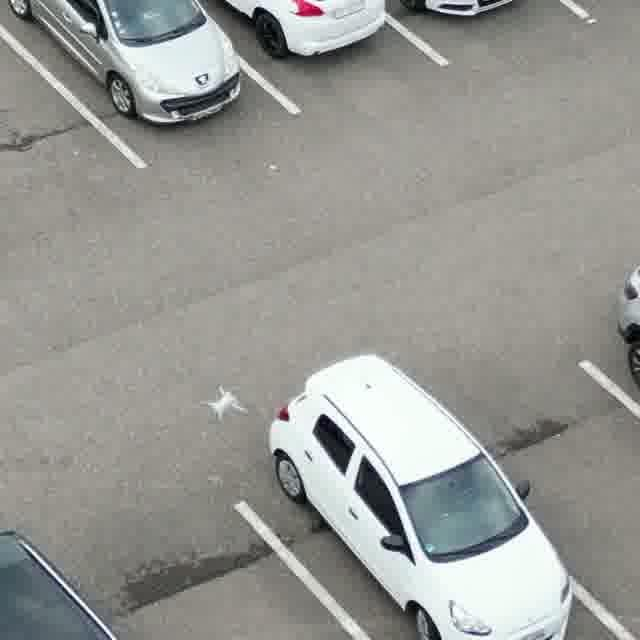Drohne: (202, 386, 247, 421)
